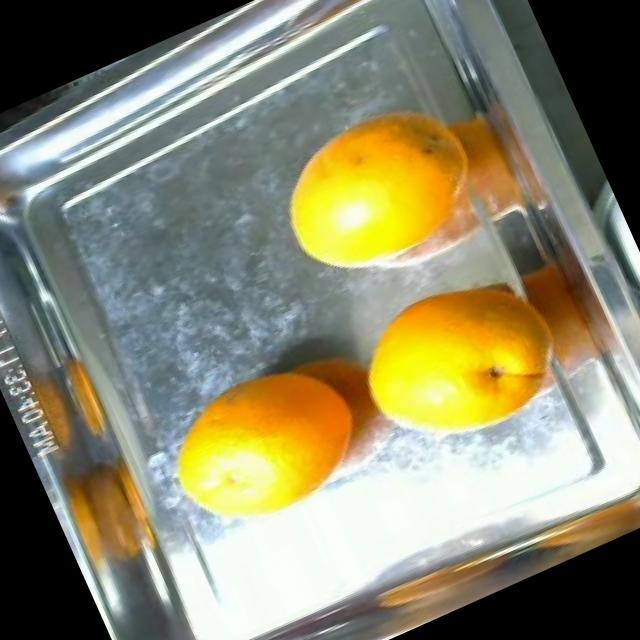Fruit: (132, 331, 386, 565), (250, 92, 472, 305), (37, 434, 167, 594)
